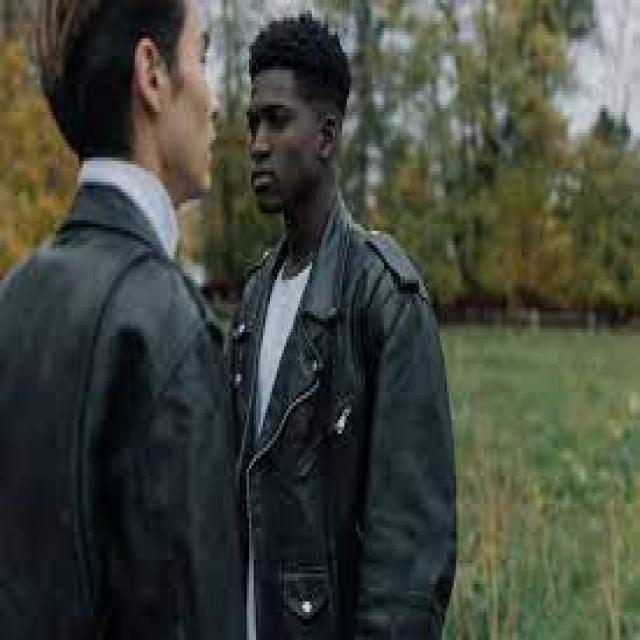Jacket: (217, 231, 470, 640), (0, 210, 240, 619)
